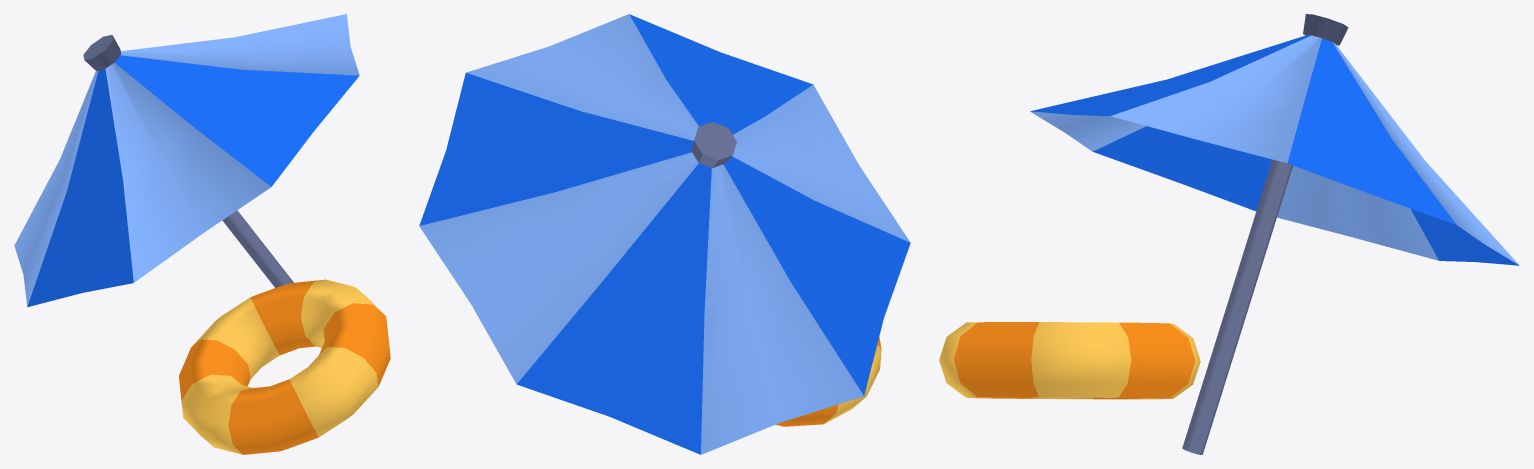
File: prop4.glb
The picture shows the model from 3 angles, left to right: view 1: azimuth 30°, elevation 25°; view 2: azimuth 150°, elevation 25°; view 3: azimuth 270°, elevation 25°; orthographic projection. The views are drawn at different scales.
Parts seen in each view (by area): view 1: Cylinder.004_bgr_beach.001_0; view 2: Cylinder.004_bgr_beach.001_0; view 3: Cylinder.004_bgr_beach.001_0.
Part boxes in pixels (x1,y1,x2,y2): Cylinder.004_bgr_beach.001_0: (14, 14, 390, 454); Cylinder.004_bgr_beach.001_0: (419, 14, 910, 454); Cylinder.004_bgr_beach.001_0: (939, 14, 1519, 454).
Size of the model in its own units: 3.81 by 3.61 by 5.
Materials: 2 (2 with a texture image).
